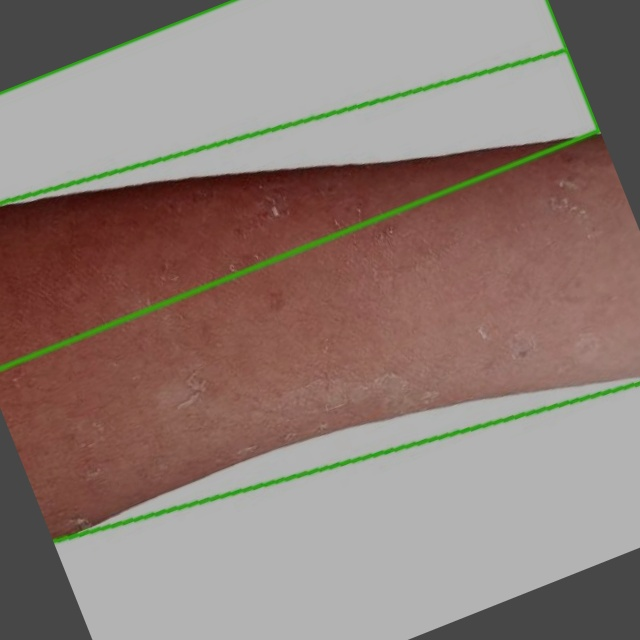Tinea Corporis: (0, 53, 639, 537), (0, 0, 599, 368)
